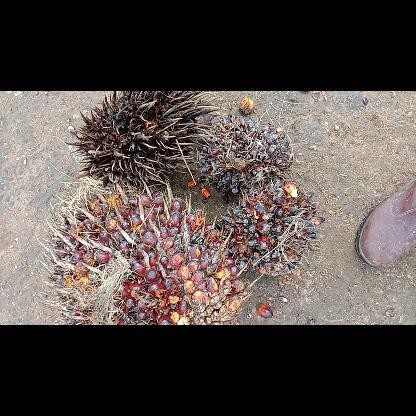Janjang kosong: (63, 90, 223, 192)
TBS abnormal: (212, 176, 328, 275), (194, 114, 296, 196)
TBS masak: (35, 174, 256, 324)
